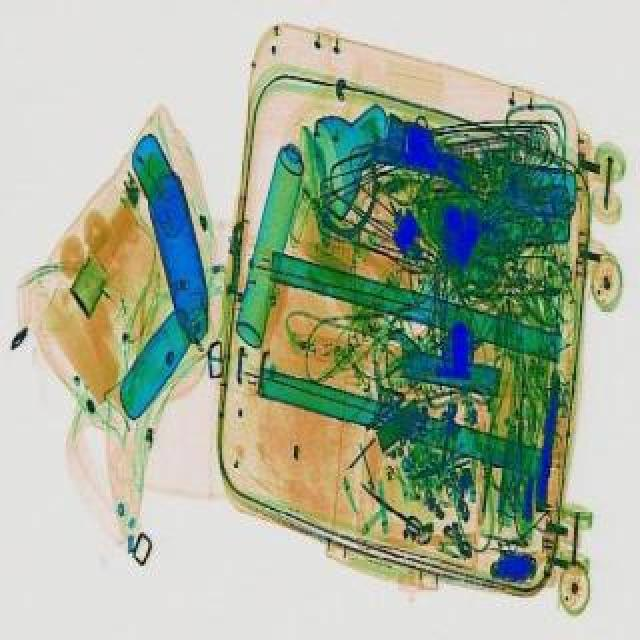pliers: (352, 474, 426, 536)
